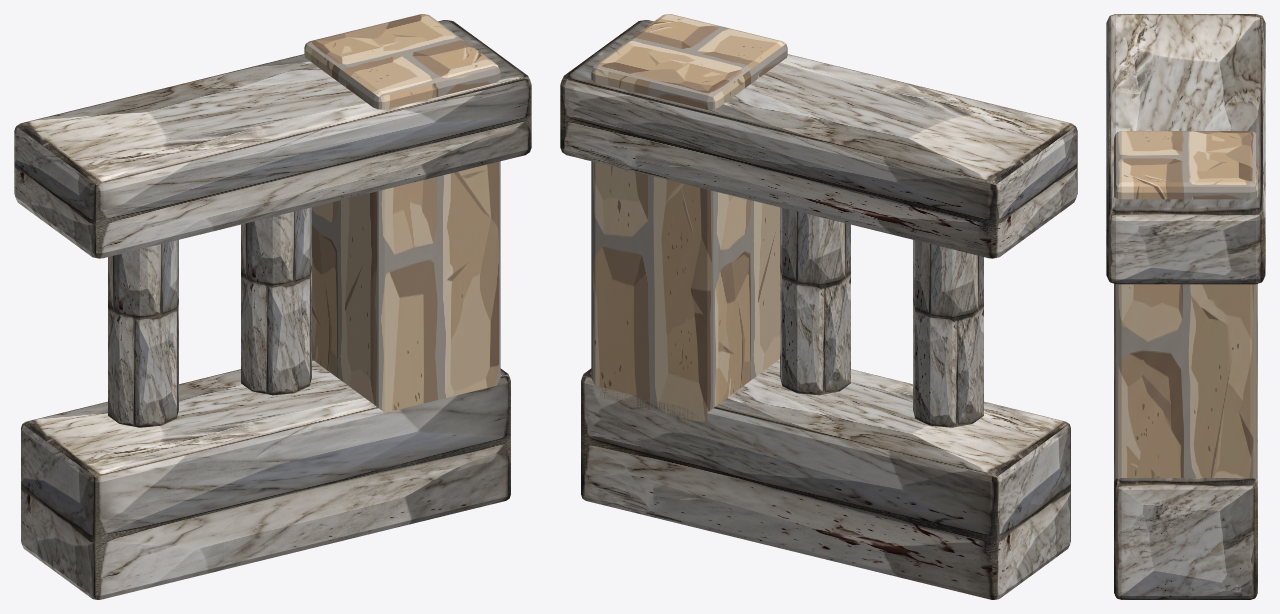
File: balustrade_vault_end_LOD1.glb
3 views of the same model, side by side, from view 1: azimuth 30°, elevation 25°; view 2: azimuth 150°, elevation 25°; view 3: azimuth 270°, elevation 25° (orthographic). The views are drawn at different scales.
Parts seen in each view (by area): view 1: LOD1_Plinth, LOD1_Handrail, LOD1_TerminalPier, LOD1_Baluster, LOD1_Baluster.001; view 2: LOD1_Plinth, LOD1_Handrail, LOD1_TerminalPier, LOD1_Baluster, LOD1_Baluster.001; view 3: LOD1_TerminalPier, LOD1_Handrail, LOD1_Plinth.
Boxes of the visible parts, x1,y1,x2,y2 form: LOD1_Plinth: (21, 359, 510, 599); LOD1_Handrail: (14, 20, 531, 258); LOD1_TerminalPier: (304, 14, 500, 412); LOD1_Baluster: (108, 240, 178, 427); LOD1_Baluster.001: (241, 207, 311, 395); LOD1_Plinth: (581, 359, 1070, 599); LOD1_Handrail: (560, 20, 1077, 258); LOD1_TerminalPier: (591, 14, 787, 423); LOD1_Baluster: (913, 240, 983, 427); LOD1_Baluster.001: (780, 207, 850, 395); LOD1_TerminalPier: (1114, 131, 1257, 480); LOD1_Handrail: (1106, 14, 1265, 284); LOD1_Plinth: (1114, 478, 1257, 599).
Bounding box in the file's own units: 1.26 × 1.2 × 0.42.
2 materials, 2 textured.
